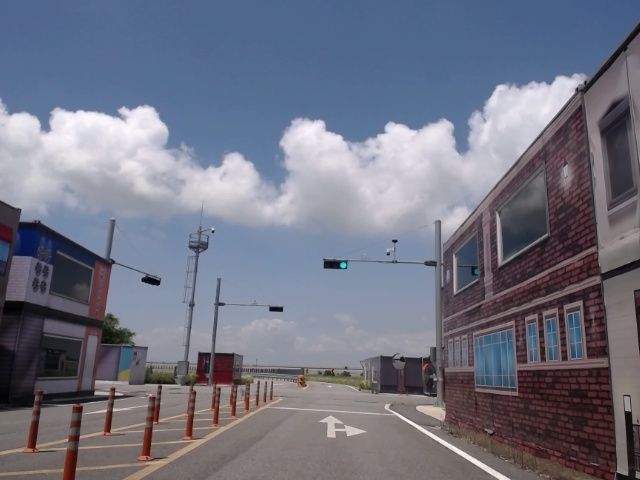green_3: (325, 260, 347, 268)
